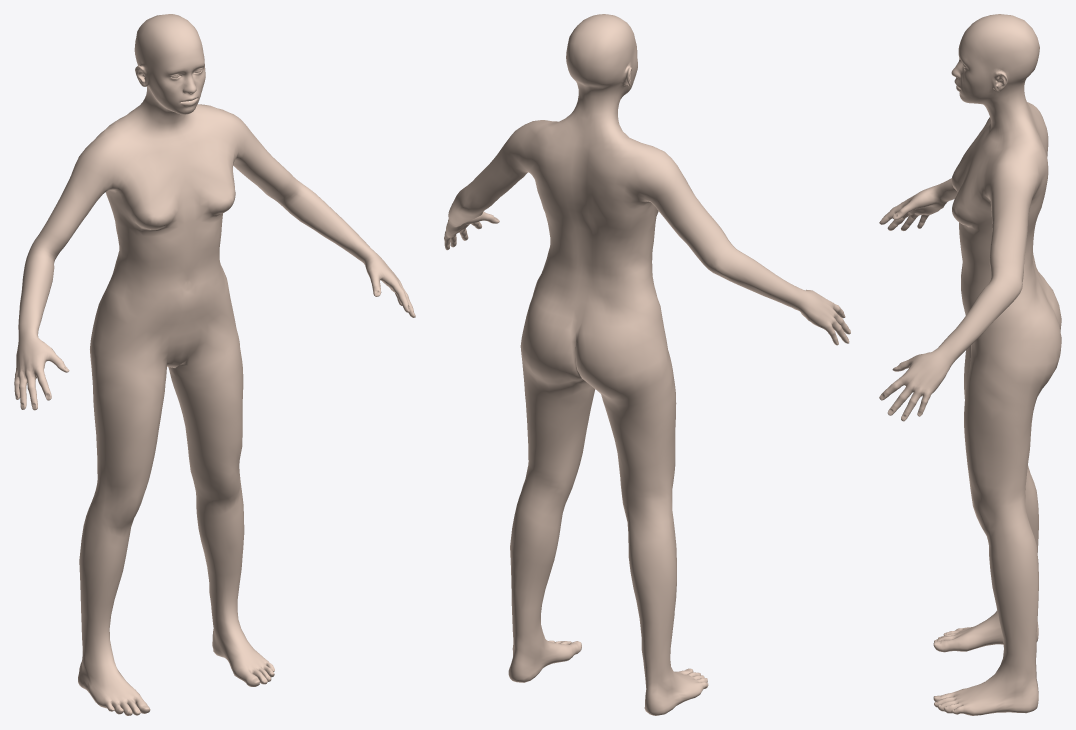
Rendered from female.glb.
The picture shows the model from 3 angles, left to right: view 1: azimuth 30°, elevation 25°; view 2: azimuth 150°, elevation 25°; view 3: azimuth 270°, elevation 25°; orthographic projection.
Parts seen in each view (by area): view 1: body; view 2: body; view 3: body.
Part boxes in pixels (bbox=[...]): body: bbox=[14, 14, 415, 715]; body: bbox=[444, 14, 850, 715]; body: bbox=[879, 14, 1061, 715].
Size of the model in its own units: 1.1 by 1.77 by 0.4419.
